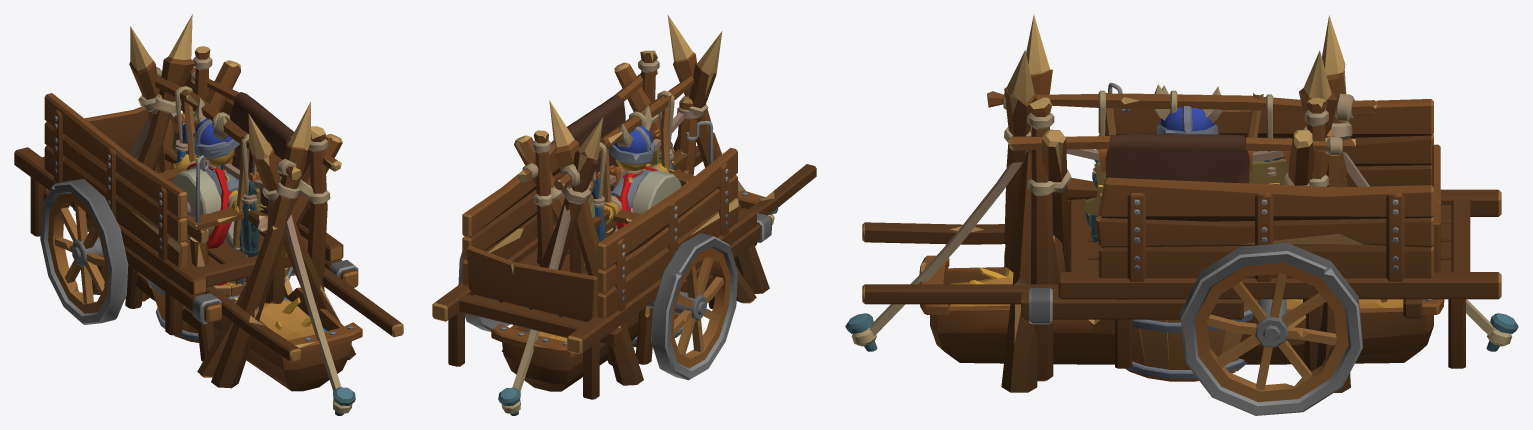
Rendered from props.glb.
The picture shows the model from 3 angles, left to right: view 1: azimuth 30°, elevation 25°; view 2: azimuth 150°, elevation 25°; view 3: azimuth 270°, elevation 25°; orthographic projection. The views are drawn at different scales.
Parts seen in each view (by area): view 1: prop_Cart_1_A, prop_DriedFish_1_A, prop_SkinHang_A, prop_Grinder_A, prop_Trough_1_A, prop_Laundry_A, prop_Manequin_1_A, prop_Trough_2_A, prop_Manequin_2_A, prop_Basin_A, prop_Rope_1_A, prop_PracticeTarget_2_A; view 2: prop_Cart_1_A, prop_DriedFish_1_A, prop_SkinHang_A, prop_Trough_1_A, prop_Laundry_A, prop_Grinder_A, prop_Manequin_1_A, prop_Manequin_2_A, prop_Rope_1_A, prop_PracticeTarget_2_A; view 3: prop_Cart_1_A, prop_SkinHang_A, prop_DriedFish_1_A, prop_Trough_1_A, prop_Laundry_A, prop_Basin_A, prop_Manequin_2_A, prop_Trough_2_A, prop_Rope_1_A.
Part boxes in pixels (x1,y1,x2,y2): prop_Cart_1_A: (14,77,403,362); prop_DriedFish_1_A: (92,14,355,388); prop_SkinHang_A: (142,46,342,376); prop_Grinder_A: (125,155,249,361); prop_Trough_1_A: (86,218,362,391); prop_Laundry_A: (73,94,355,415); prop_Manequin_1_A: (164,104,267,231); prop_Trough_2_A: (222,282,324,340); prop_Manequin_2_A: (175,98,267,229); prop_Basin_A: (146,266,292,342); prop_Rope_1_A: (182,89,249,281); prop_PracticeTarget_2_A: (186,162,231,248); prop_Cart_1_A: (432,145,816,399); prop_DriedFish_1_A: (502,15,769,385); prop_SkinHang_A: (514,50,756,365); prop_Trough_1_A: (491,190,765,391); prop_Laundry_A: (498,96,778,415); prop_Grinder_A: (605,121,715,364); prop_Manequin_1_A: (592,108,688,228); prop_Manequin_2_A: (602,105,675,230); prop_Rope_1_A: (600,94,672,228); prop_PracticeTarget_2_A: (616,166,658,346); prop_Cart_1_A: (862,99,1501,415); prop_SkinHang_A: (1008,97,1355,380); prop_DriedFish_1_A: (987,14,1377,392); prop_Trough_1_A: (919,255,1444,364); prop_Laundry_A: (845,127,1518,351); prop_Basin_A: (1114,299,1256,381); prop_Manequin_2_A: (1067,84,1279,199); prop_Trough_2_A: (948,267,1403,309); prop_Rope_1_A: (1105,91,1263,152).
Size of the model in its own units: 1.88 by 2.18 by 4.16.
